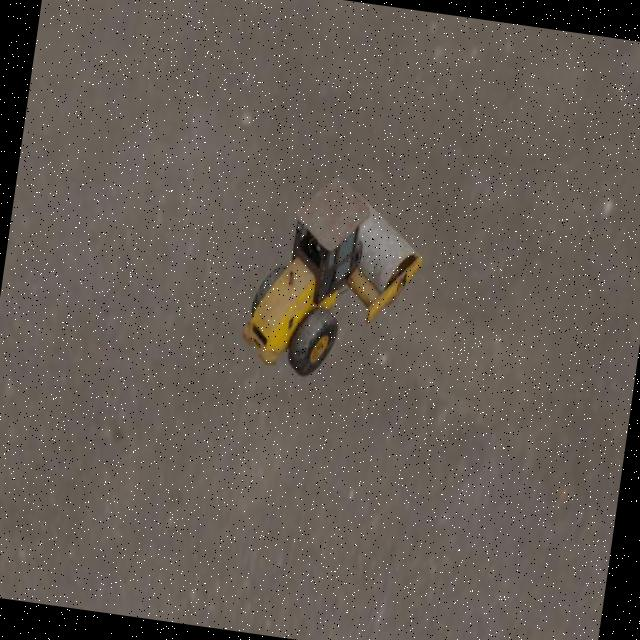Roller: (237, 167, 432, 391)
